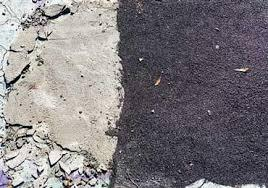crack: (108, 0, 127, 188)
